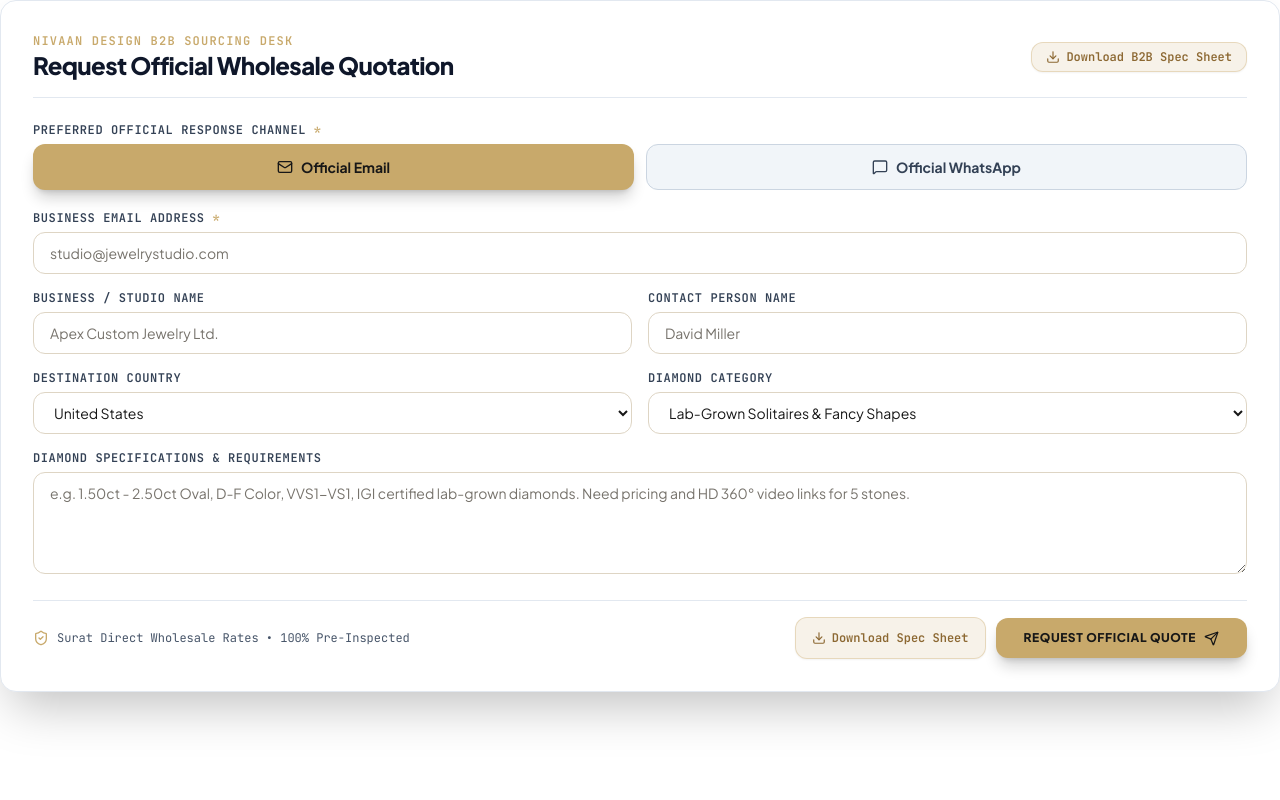
Scenario: B2B Quote Form Component › should validate invalid email and display error message
Type "invalid-email" into the field labelled "Business Email Address *" at point(640, 253), box [33,232,1247,274]
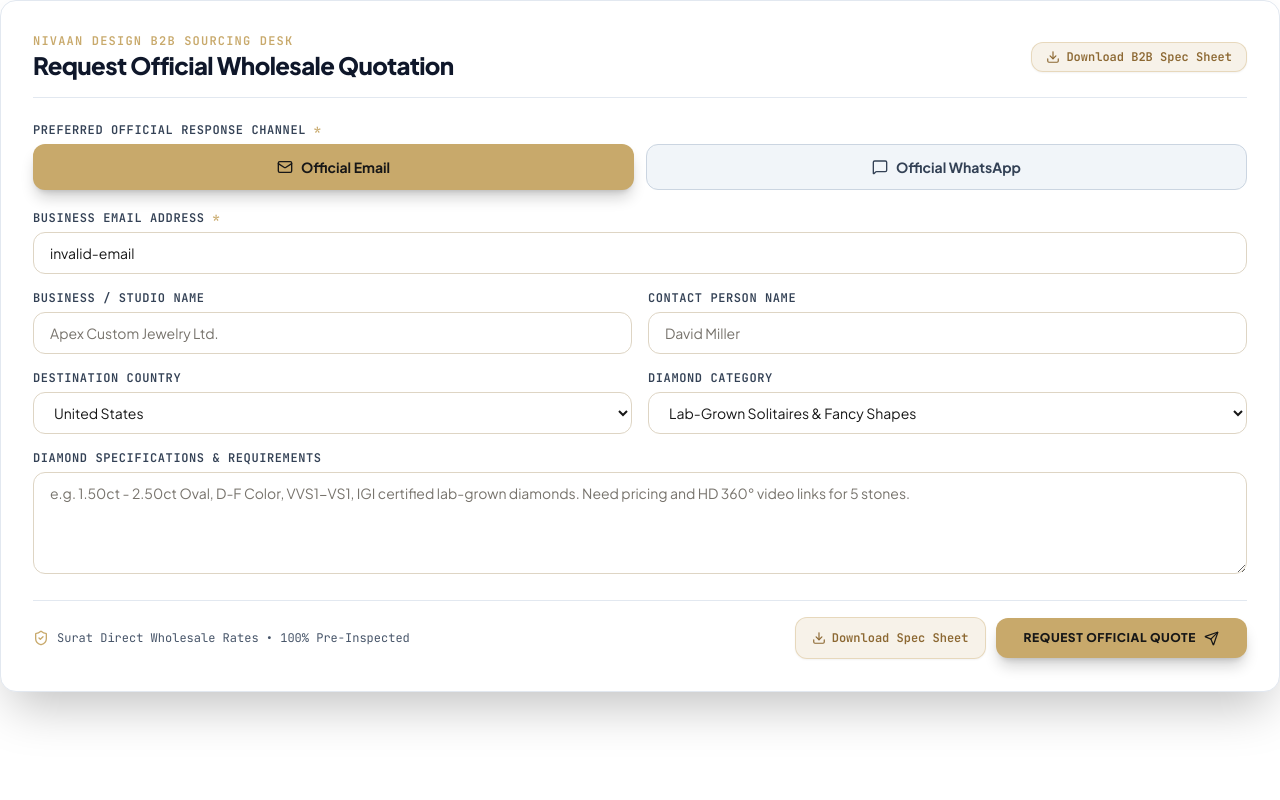
Submit the form named "Business Email Address"
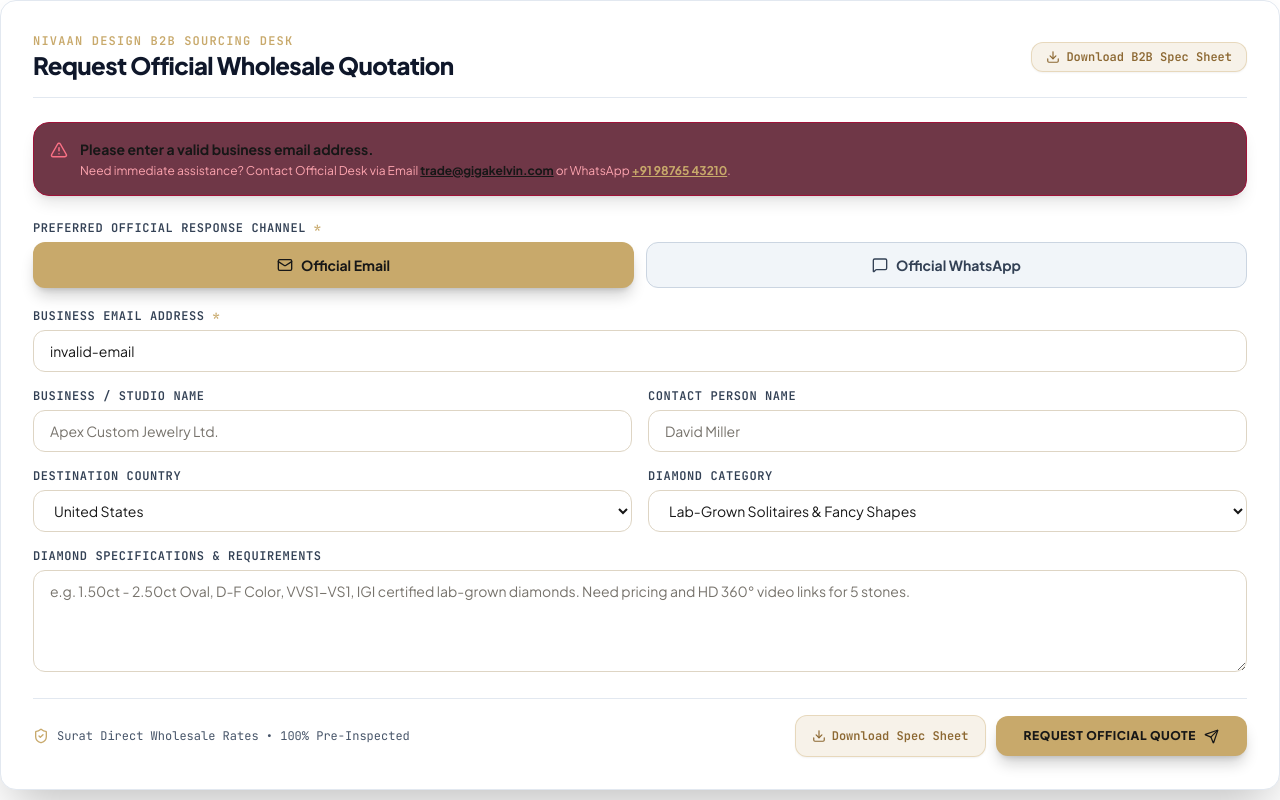
expect the text "Please enter a valid business email address." is shown: met, box [80,140,374,158]
